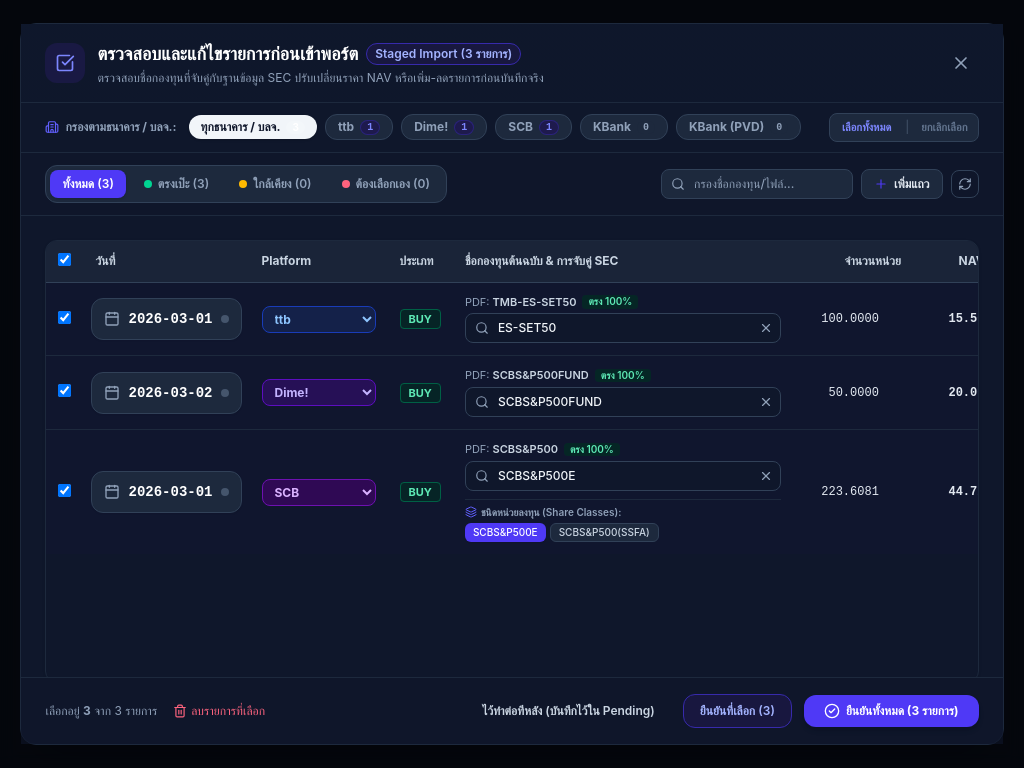
Test: TransactionReviewModal Bank Filtering › filters by selected bank when clicking platform pill
expect the text "TMB-ES-SET50" is shown: met, box x1=493 y1=295 x2=576 y2=309
// Click Dime! bank filter
Click the button "Dime! 1": point(444, 127) x1=401 y1=114 x2=487 y2=140
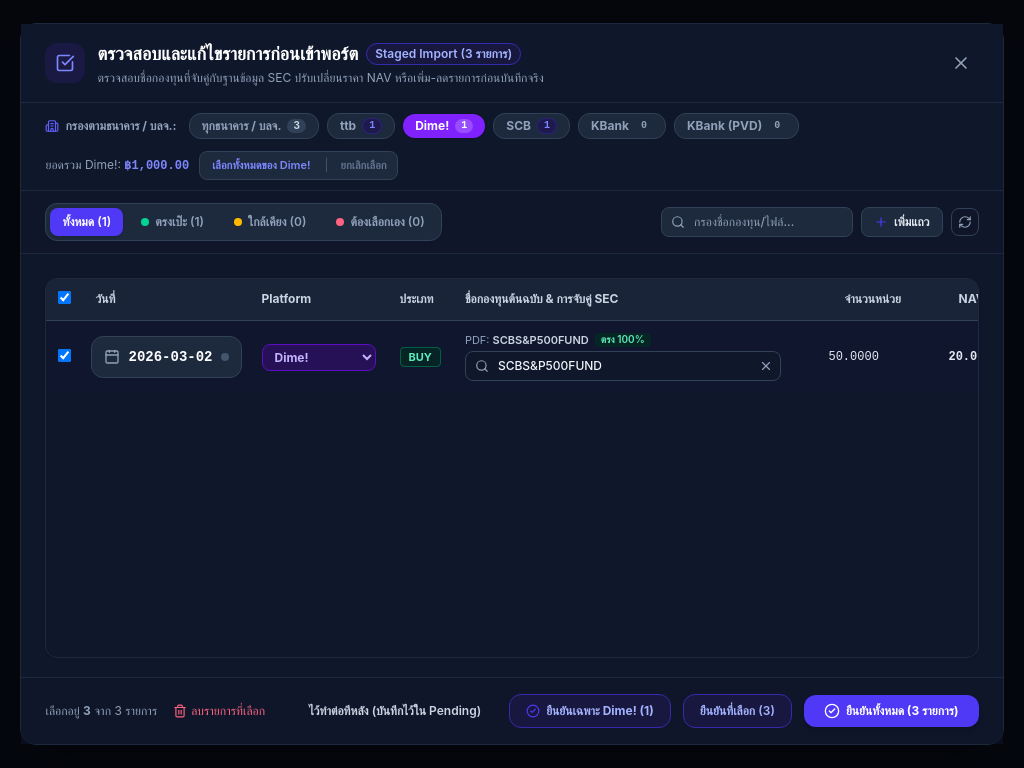
expect the text "SCBS&P500FUND" is shown: met, box x1=493 y1=333 x2=589 y2=347
expect the text "TMB-ES-SET50" is gone: met
